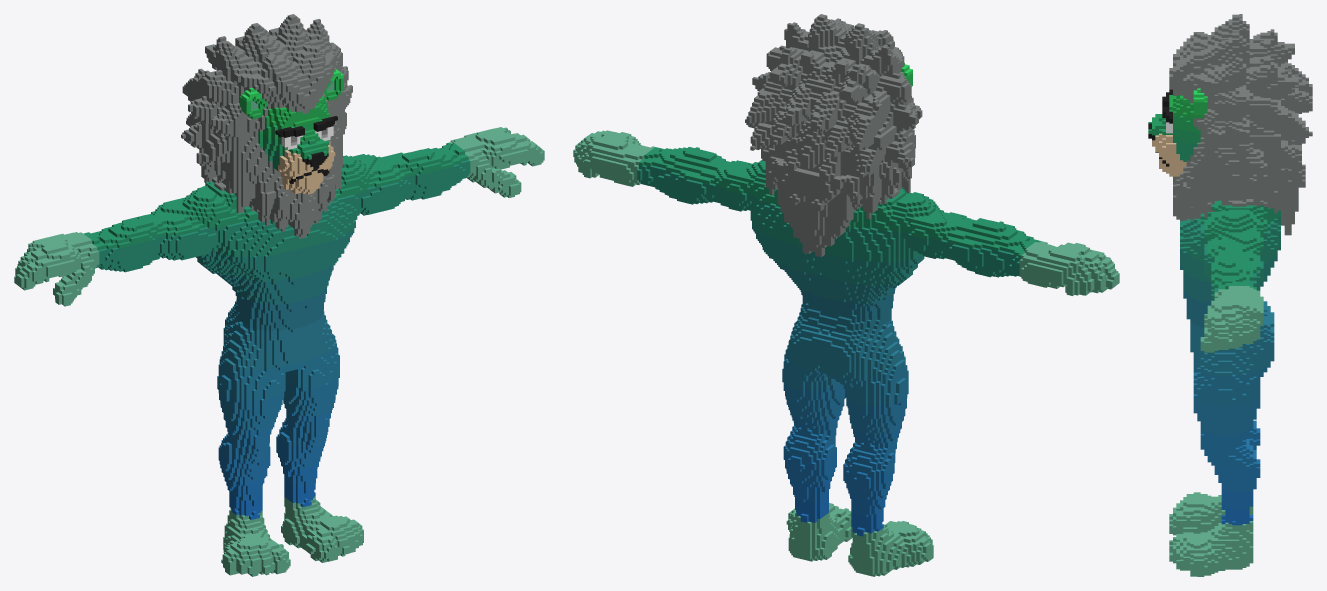
Rendered from 658-YAR7xTJd.glb.
The picture shows the model from 3 angles, left to right: view 1: azimuth 30°, elevation 25°; view 2: azimuth 150°, elevation 25°; view 3: azimuth 270°, elevation 25°; orthographic projection. The views are drawn at different scales.
Parts seen in each view (by area): view 1: sad; view 2: sad; view 3: sad.
Part boxes in pixels (x1,y1,x2,y2): sad: (14, 14, 544, 576); sad: (573, 14, 1119, 576); sad: (1148, 14, 1312, 576).
Size of the model in its own units: 17.2 by 16.5 by 4.7.
4 materials, 4 textured.
